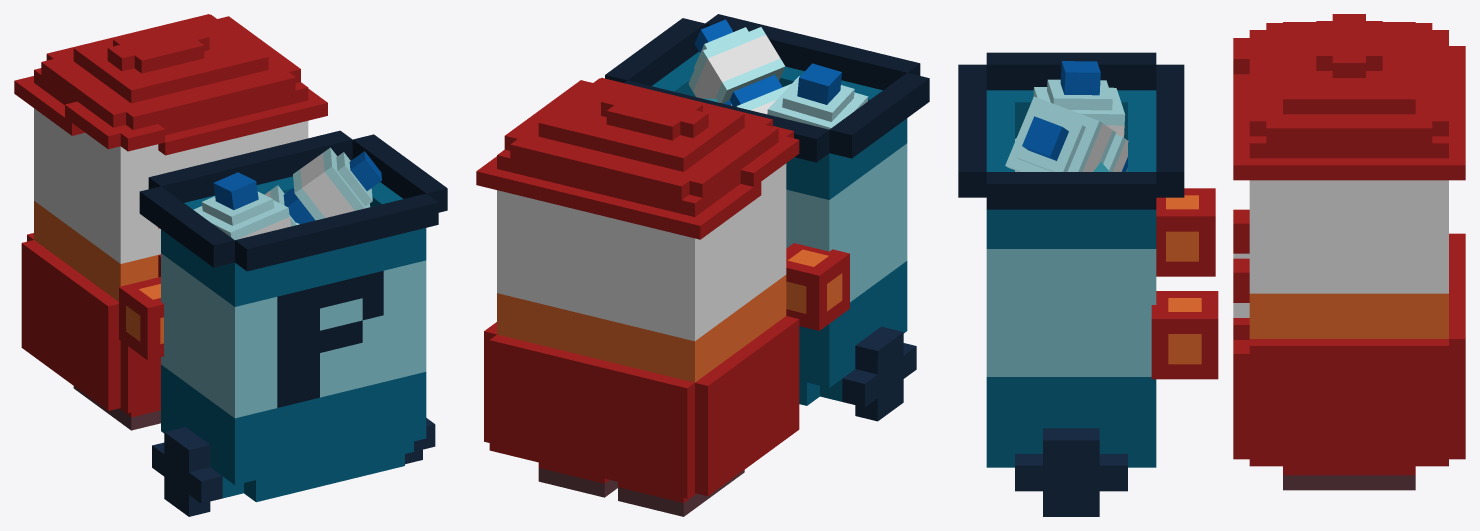
Rendered from p4PlasConDizzy.gltf.
The picture shows the model from 3 angles, left to right: view 1: azimuth 30°, elevation 25°; view 2: azimuth 150°, elevation 25°; view 3: azimuth 270°, elevation 25°; orthographic projection. The views are drawn at different scales.
Parts seen in each view (by area): view 1: Yup2Zup.001; view 2: Yup2Zup.001; view 3: Yup2Zup.001.
Part boxes in pixels (x1=…): Yup2Zup.001: x1=14, y1=14, x2=447, y2=516; Yup2Zup.001: x1=476, y1=14, x2=929, y2=516; Yup2Zup.001: x1=958, y1=14, x2=1465, y2=516.
Size of the model in its own units: 1.9 by 2.7 by 3.06.
7 materials, 7 textured.
